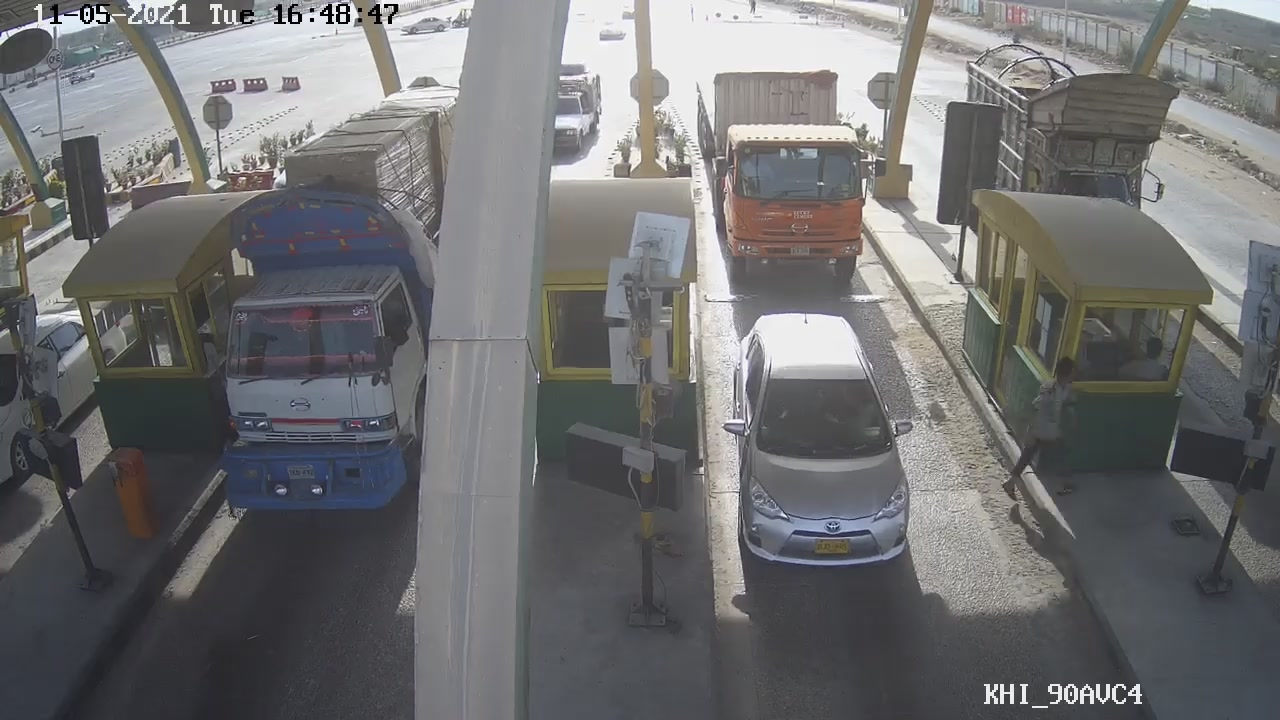F1: (721, 307, 922, 574)
F6: (688, 53, 875, 288)
